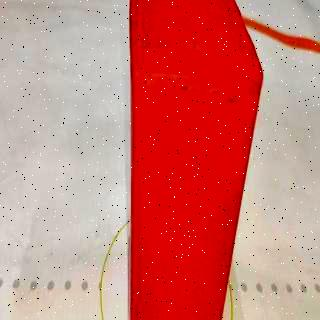redbox: (128, 0, 264, 320)
